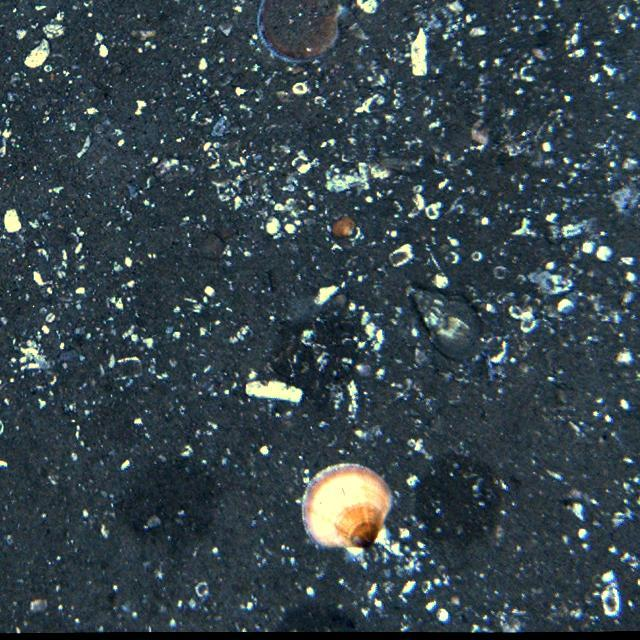whelk: (406, 290, 484, 360)
